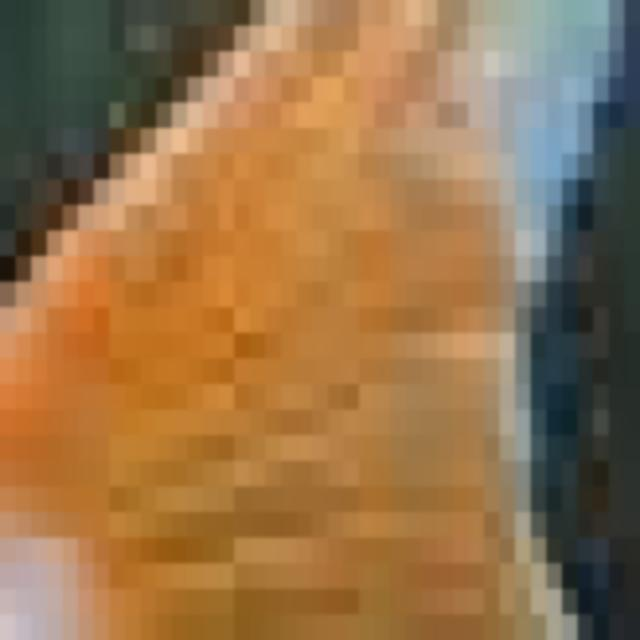fish: (15, 25, 640, 640)
